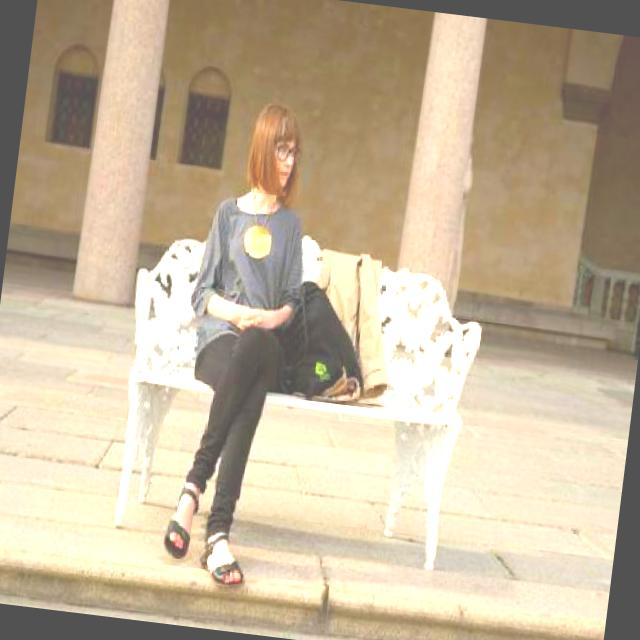Person: (158, 86, 324, 594)
